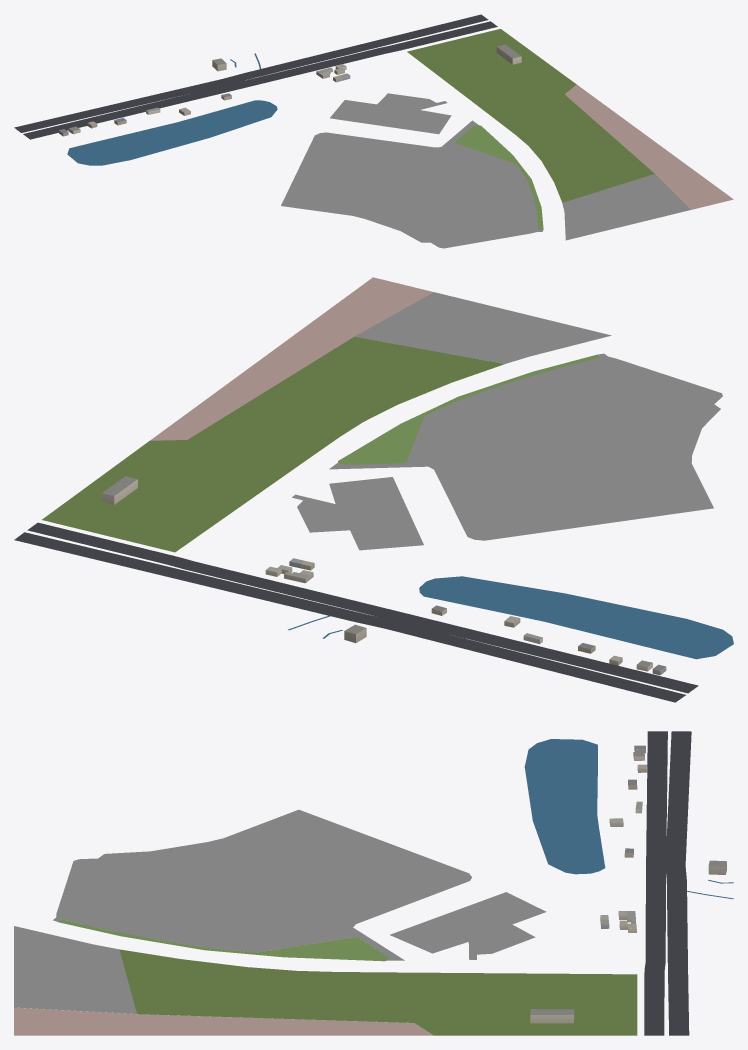
3 views of the same model, one above another, from view 1: azimuth 30°, elevation 25°; view 2: azimuth 150°, elevation 25°; view 3: azimuth 270°, elevation 25° (orthographic). The views are drawn at different scales.
Visible parts, largest first — view 1: landuse, roads, water, buildings_walls, buildings_roofs; view 2: landuse, roads, water, buildings_walls, buildings_roofs; view 3: landuse, roads, water, buildings_walls, buildings_roofs.
Part boxes in pixels (x1=…): landuse: x1=281, y1=29, x2=733, y2=248; roads: x1=14, y1=14, x2=497, y2=139; water: x1=67, y1=53, x2=277, y2=165; buildings_walls: x1=59, y1=47, x2=521, y2=136; buildings_roofs: x1=59, y1=44, x2=521, y2=133; landuse: x1=42, y1=277, x2=722, y2=552; roads: x1=14, y1=522, x2=698, y2=702; water: x1=288, y1=576, x2=733, y2=659; buildings_walls: x1=102, y1=479, x2=666, y2=675; buildings_roofs: x1=102, y1=476, x2=665, y2=670; landuse: x1=14, y1=809, x2=637, y2=1035; roads: x1=644, y1=731, x2=691, y2=1035; water: x1=524, y1=739, x2=733, y2=899; buildings_walls: x1=530, y1=747, x2=726, y2=1023; buildings_roofs: x1=530, y1=745, x2=726, y2=1014.
Bounding box in the file's own units: 500 × 6.43 × 500.
